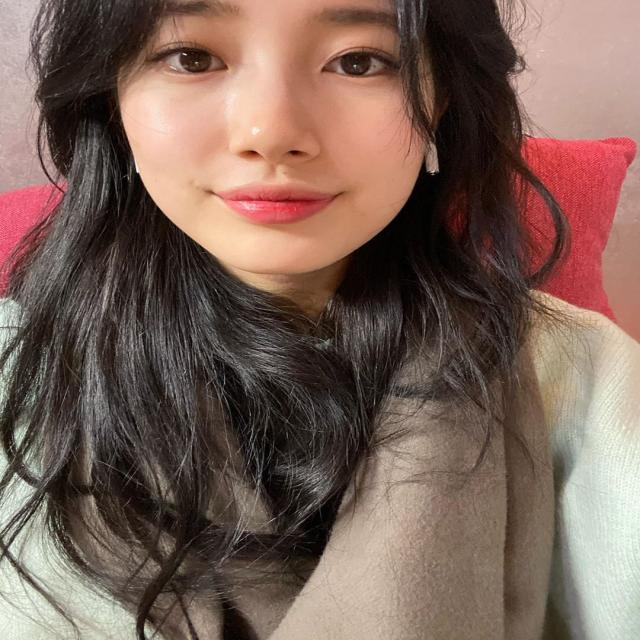earphone: (418, 100, 450, 202)
